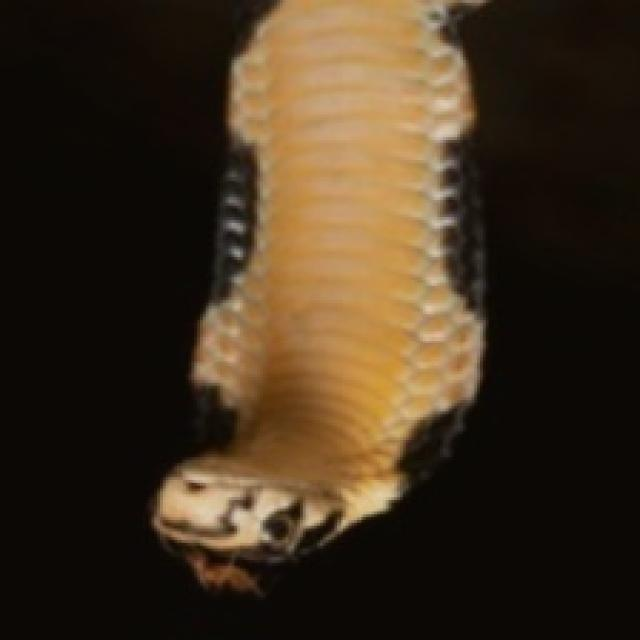king cobra: (303, 3, 637, 637), (151, 0, 480, 589), (154, 0, 480, 554), (449, 397, 583, 477)
